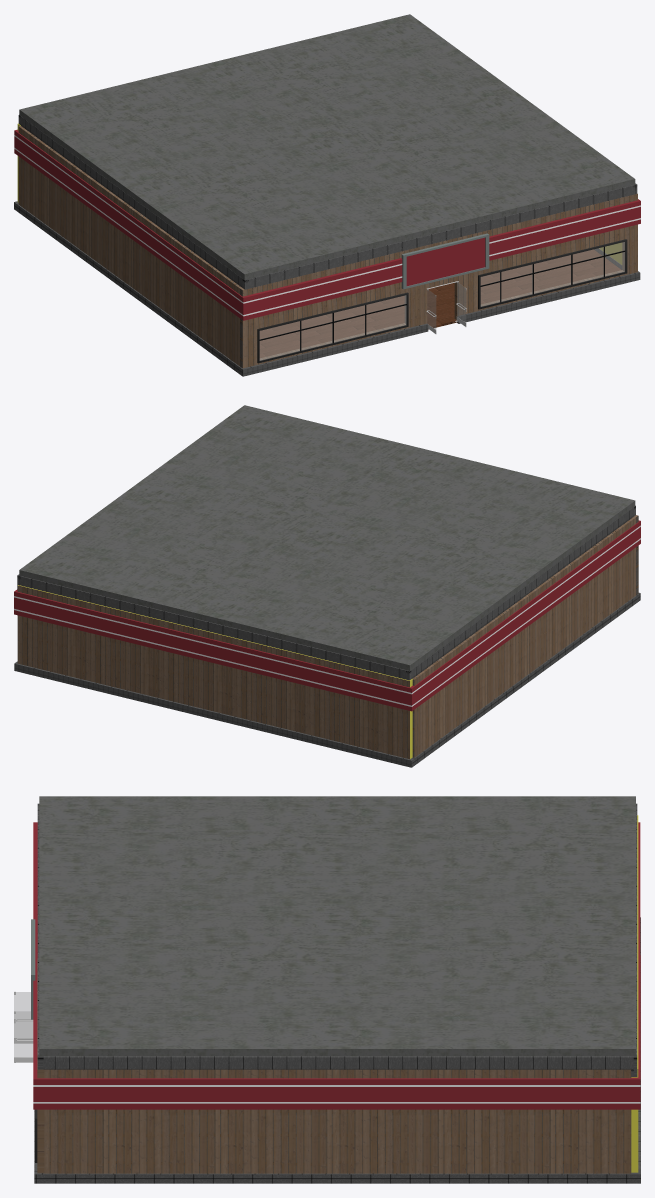
The picture shows the model from 3 angles, top to bottom: view 1: azimuth 30°, elevation 25°; view 2: azimuth 150°, elevation 25°; view 3: azimuth 270°, elevation 25°; orthographic projection. The views are drawn at different scales.
Parts seen in each view (by area): view 1: Cube.128, Cube.125, Cube.113, Cube.114, Cube.115, Cube.126, Cube.122, Cube.121, Cube.119, Cube.123, Cube.116, Cube.120 (+1 smaller); view 2: Cube.128, Cube.112, Cube.125, Cube.113, Cube.126, Cube.122; view 3: Cube.128, Cube.127, Cube.125, Cube.126, Cube.122, Cube.112, Glass Door.004, Glass Door.008_Glass_0.004, Cube.114.
Part boxes in pixels (x1=…): Cube.128: x1=19, y1=14, x2=635, y2=279; Cube.125: x1=14, y1=129, x2=640, y2=320; Cube.113: x1=18, y1=126, x2=241, y2=366; Cube.114: x1=240, y1=193, x2=637, y2=368; Cube.115: x1=259, y1=249, x2=620, y2=358; Cube.126: x1=18, y1=115, x2=637, y2=289; Cube.122: x1=14, y1=201, x2=640, y2=376; Cube.121: x1=260, y1=295, x2=406, y2=360; Cube.119: x1=481, y1=242, x2=624, y2=306; Cube.123: x1=406, y1=237, x2=485, y2=286; Cube.116: x1=478, y1=239, x2=627, y2=309; Cube.120: x1=257, y1=292, x2=408, y2=363; Cube.128: x1=19, y1=405, x2=635, y2=670; Cube.112: x1=17, y1=585, x2=412, y2=759; Cube.125: x1=14, y1=520, x2=640, y2=711; Cube.113: x1=412, y1=517, x2=635, y2=757; Cube.126: x1=17, y1=505, x2=635, y2=680; Cube.122: x1=14, y1=592, x2=640, y2=767; Cube.128: x1=39, y1=796, x2=635, y2=1056; Cube.127: x1=44, y1=1069, x2=631, y2=1173; Cube.125: x1=33, y1=822, x2=640, y2=1109; Cube.126: x1=37, y1=803, x2=637, y2=1076; Cube.122: x1=34, y1=917, x2=640, y2=1183; Cube.112: x1=631, y1=815, x2=638, y2=1172; Glass Door.004: x1=14, y1=1011, x2=32, y2=1056; Glass Door.008_Glass_0.004: x1=14, y1=992, x2=32, y2=1037; Cube.114: x1=37, y1=959, x2=44, y2=1173.
Bounding box in the file's own units: 1056 × 254 × 1088.
9 materials, 5 textured.
